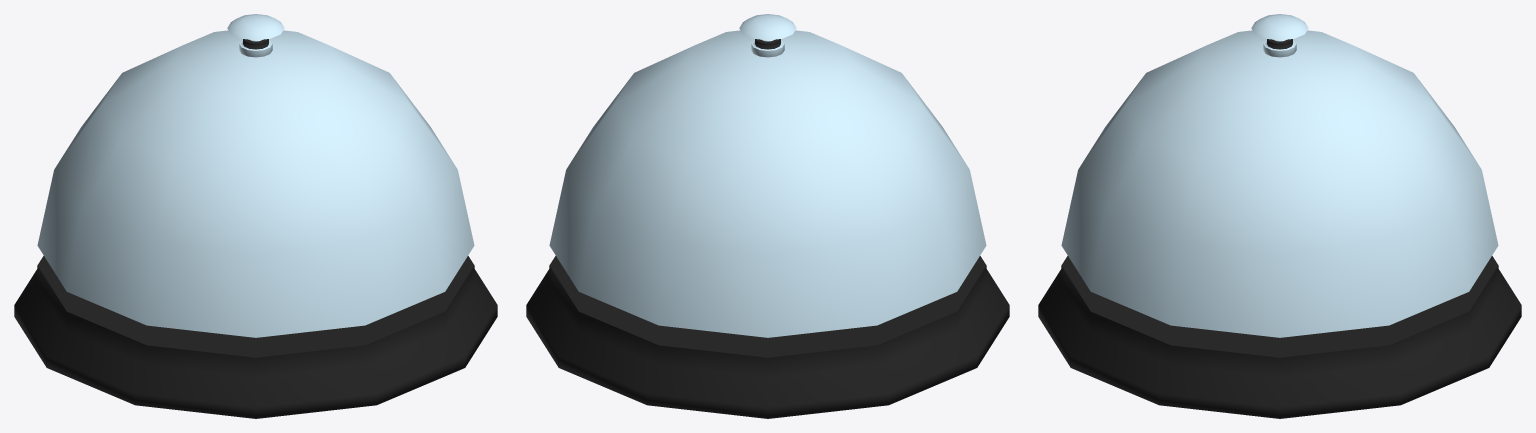
Rendered from desk_bell.glb.
3 views of the same model, side by side, from view 1: azimuth 30°, elevation 25°; view 2: azimuth 150°, elevation 25°; view 3: azimuth 270°, elevation 25° (orthographic).
Parts seen in each view (by area): view 1: desk_bell; view 2: desk_bell; view 3: desk_bell.
Part boxes in pixels (x1,y1,x2,y2): desk_bell: (14,14,497,418); desk_bell: (526,14,1009,418); desk_bell: (1038,14,1521,418).
Bounding box in the file's own units: 0.1106 × 0.0749 × 0.1106.
2 materials, 2 textured.
